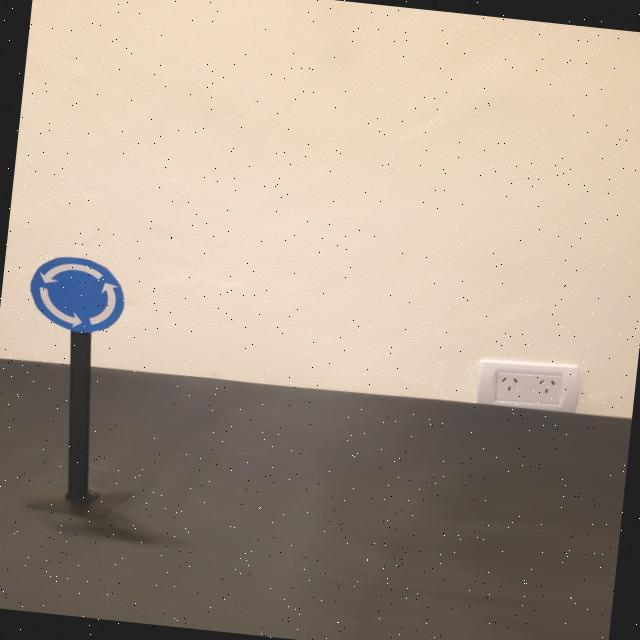round_about: (26, 252, 129, 336)
